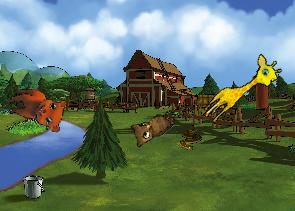bear: (6, 87, 67, 133)
giraffe: (199, 49, 285, 133)
owl: (124, 100, 177, 151)
